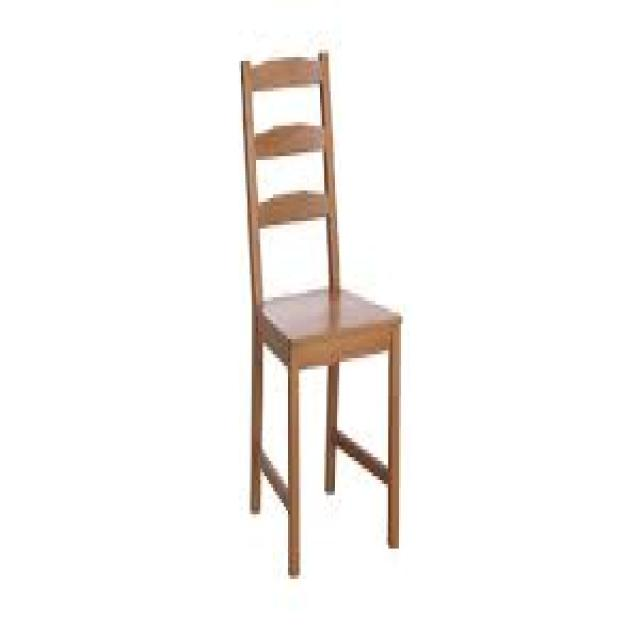chair: (161, 19, 448, 640)
